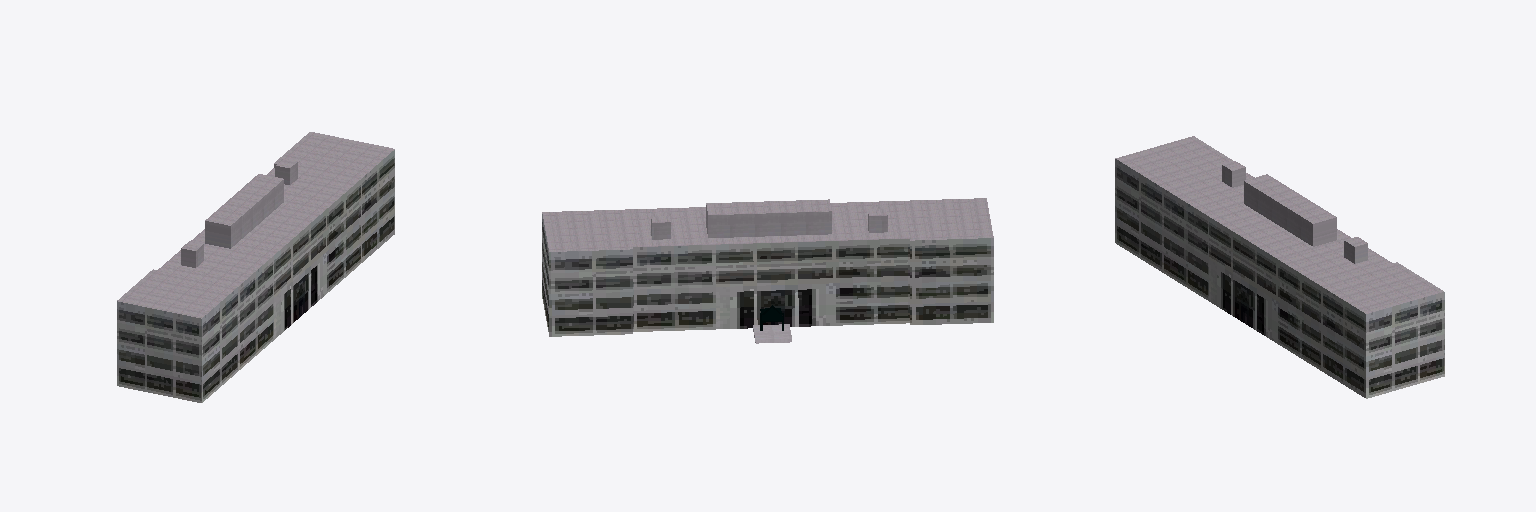
3 renders of one model, left to right at view 1: azimuth 30°, elevation 25°; view 2: azimuth 150°, elevation 25°; view 3: azimuth 270°, elevation 25°, orthographic.
Parts seen in each view (by area): view 1: VMtl1491, VMtl1493, VMtl1492; view 2: VMtl1491, VMtl1493, VMtl1492, VMtl1494; view 3: VMtl1491, VMtl1493, VMtl1492.
Boxes of the visible parts, box(x1,y1,x2,y2) form: VMtl1491: box(117, 150, 394, 402); VMtl1493: box(117, 132, 394, 318); VMtl1492: box(181, 162, 297, 267); VMtl1491: box(542, 214, 993, 336); VMtl1493: box(542, 198, 993, 251); VMtl1492: box(651, 205, 887, 239); VMtl1494: box(753, 324, 791, 343); VMtl1491: box(1115, 159, 1444, 398); VMtl1493: box(1115, 136, 1443, 313); VMtl1492: box(1222, 165, 1367, 263).
Bounding box in the file's own units: 92.71 × 26.16 × 72.4.
5 materials, 3 textured.